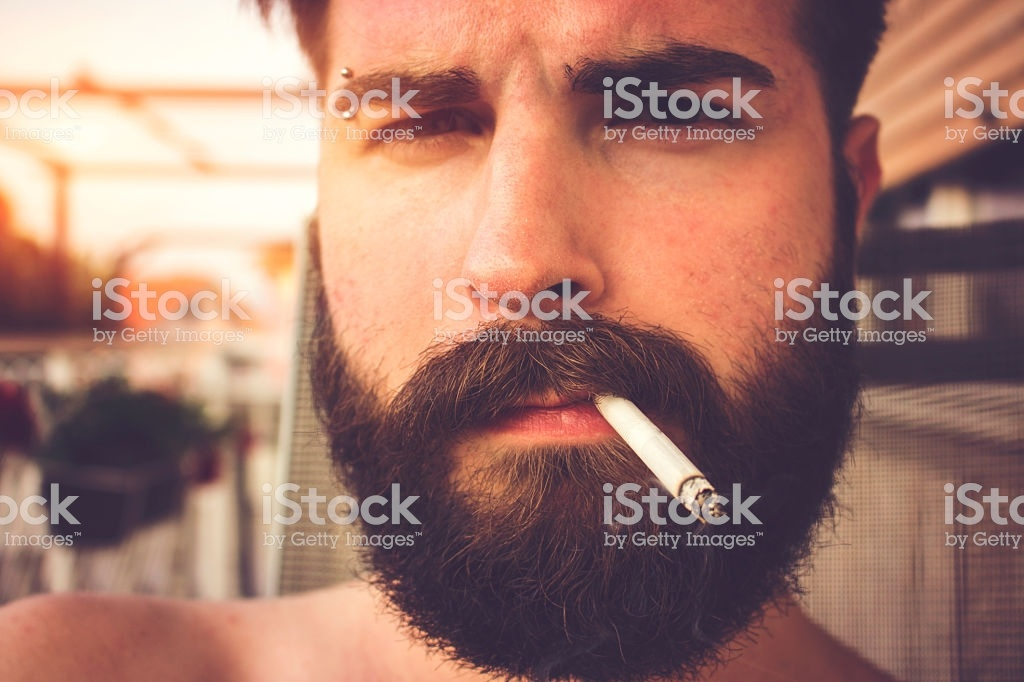sigaretta: (591, 374, 724, 531)
